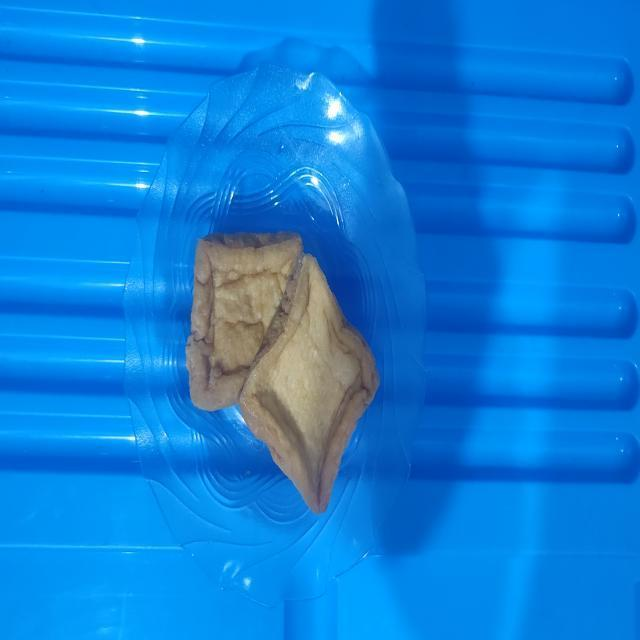tahu_goreng: (238, 252, 379, 513), (186, 232, 303, 411)
